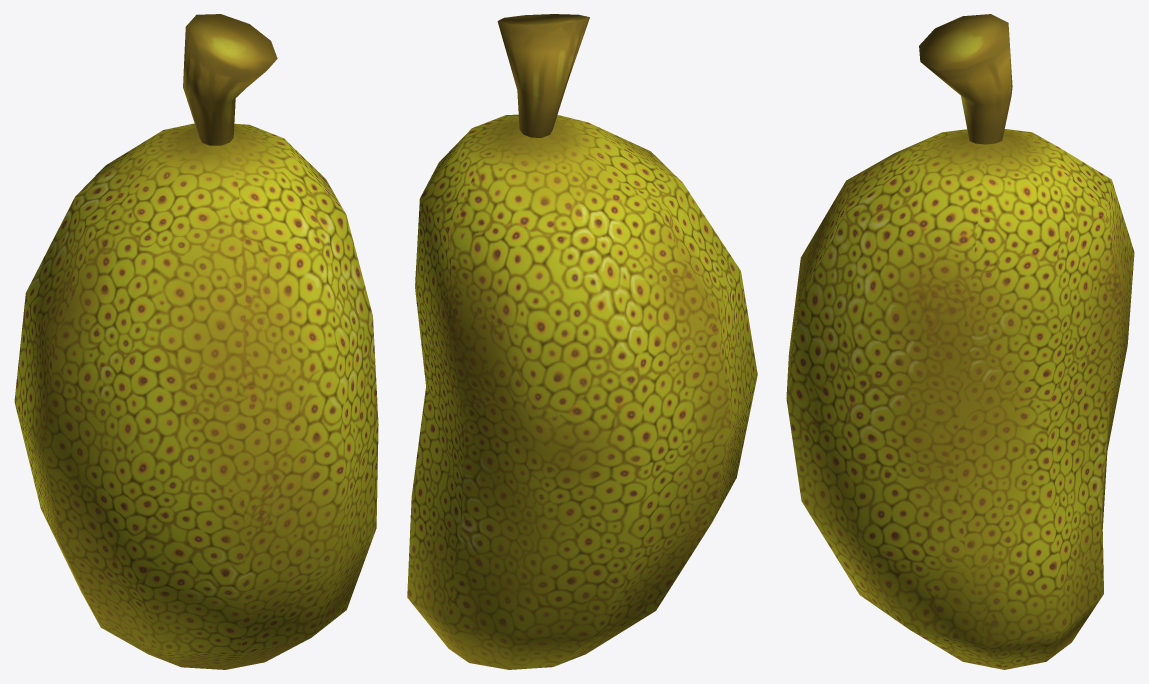
File: jackfruit.fbx
3 renders of one model, left to right at view 1: azimuth 30°, elevation 25°; view 2: azimuth 150°, elevation 25°; view 3: azimuth 270°, elevation 25°, orthographic. The views are drawn at different scales.
Parts seen in each view (by area): view 1: jackfruit; view 2: jackfruit; view 3: jackfruit.
Boxes of the visible parts, box(x1,y1,x2,y2) form: jackfruit: box(14, 14, 378, 669); jackfruit: box(407, 14, 757, 669); jackfruit: box(786, 14, 1134, 669).
Size of the model in its own units: 2.69 by 5.36 by 2.73.
